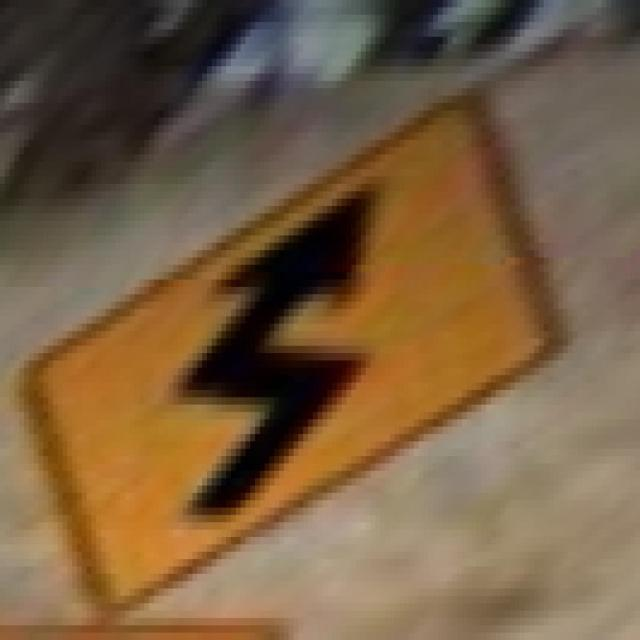Tikungan Ganda Pertama Ke Kiri: (10, 66, 572, 618)
